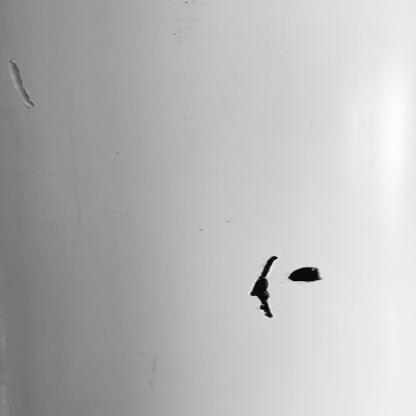kongdong: (247, 256, 282, 319), (288, 265, 324, 284)
sunshang: (1, 56, 38, 110)
